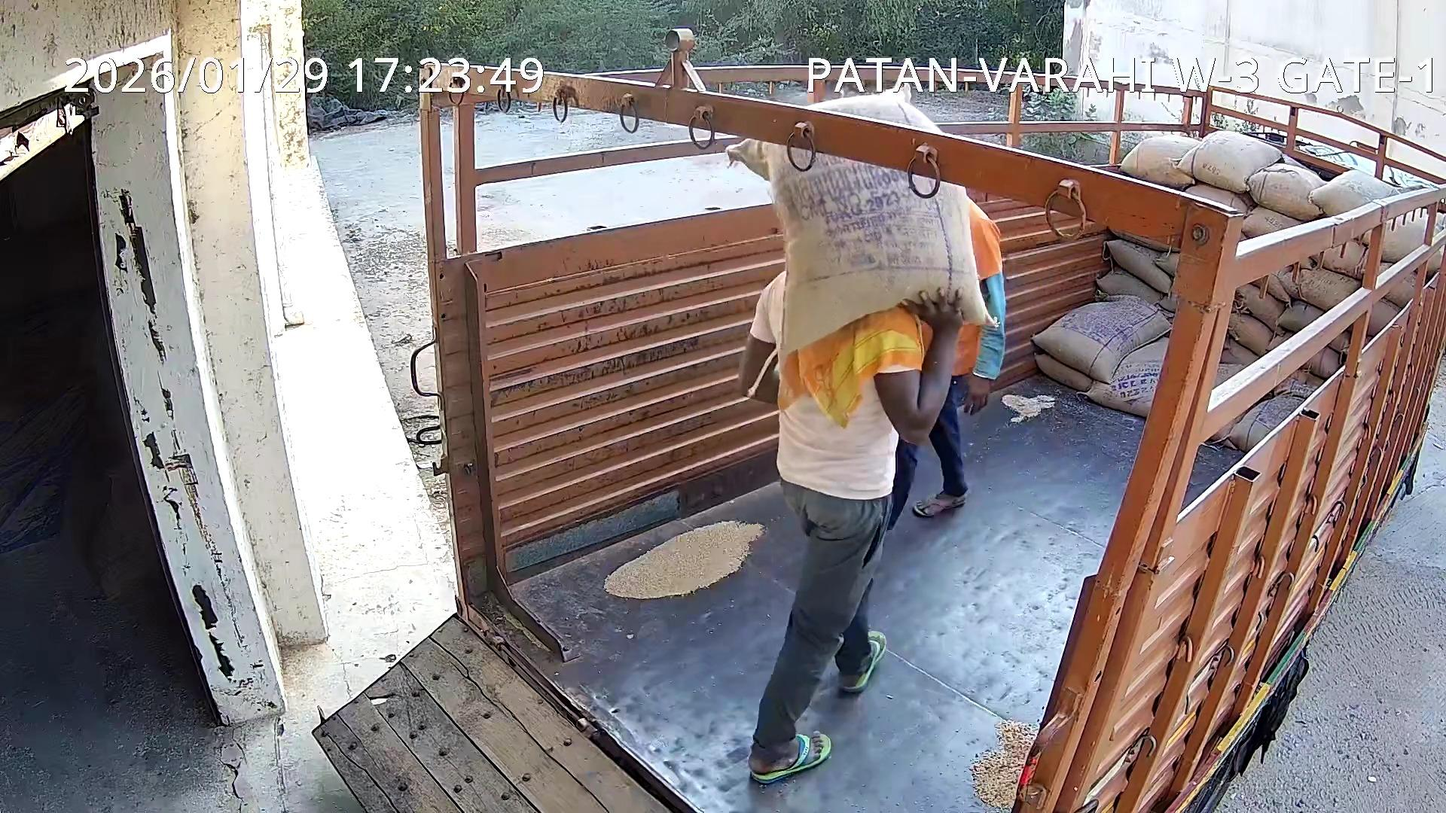Sack: (729, 123, 991, 352), (811, 90, 942, 134)
